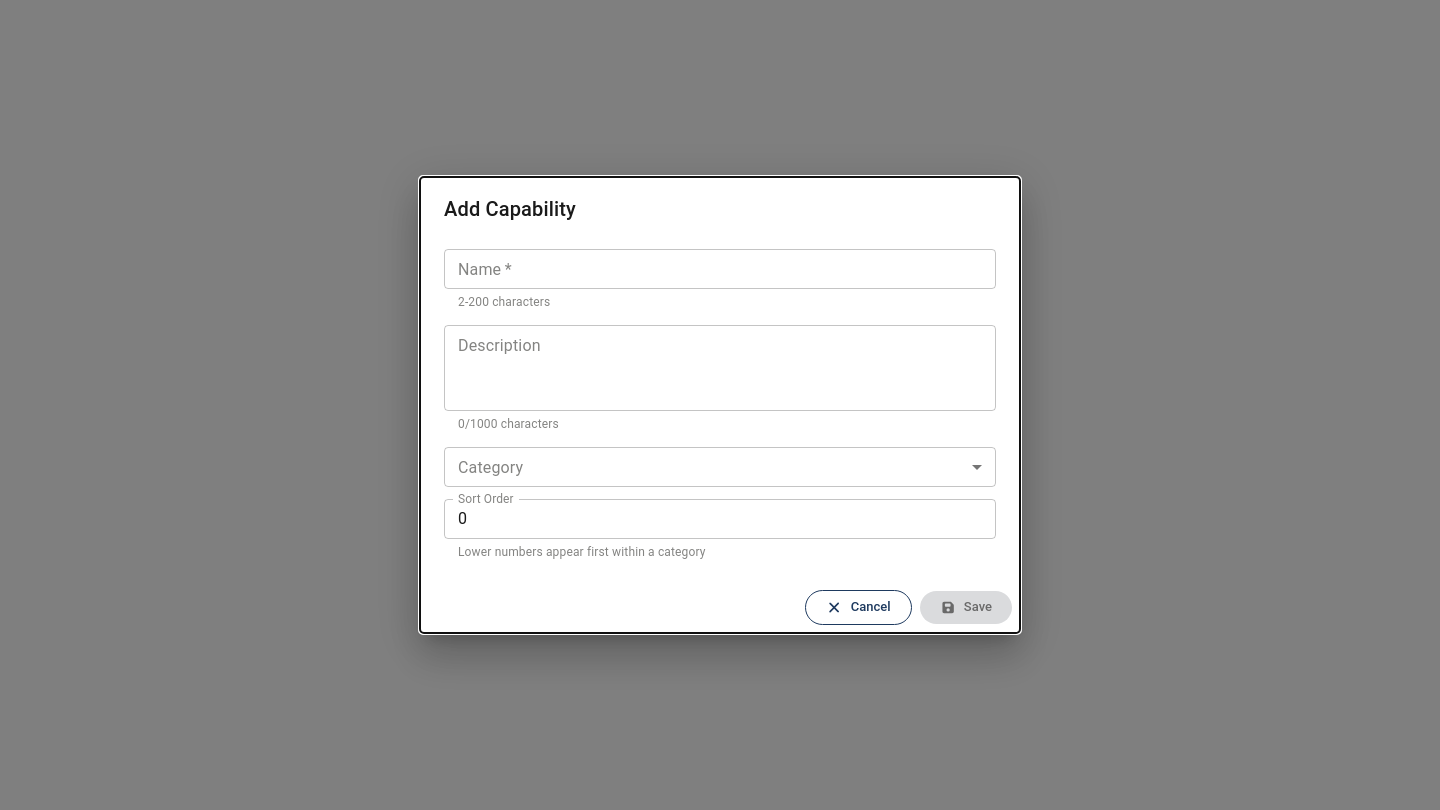
Scenario: CapabilityDialog › Error handling › displays error message on save failure
Type "Test Capability" into the field labelled "Name *" at point(720, 269), box [444,249,996,289]
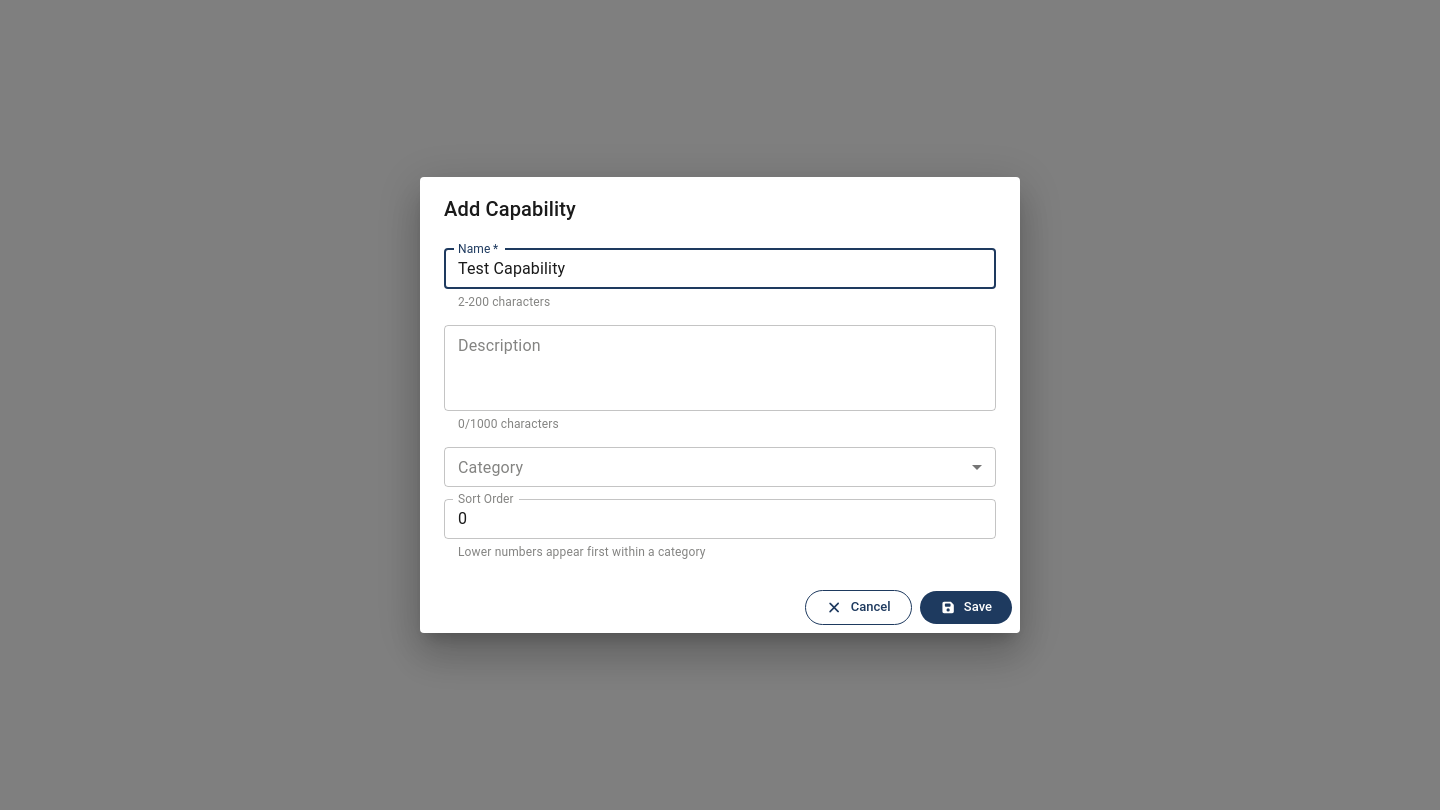
Click the button "Save" at point(966, 608), box [920,592,1012,624]
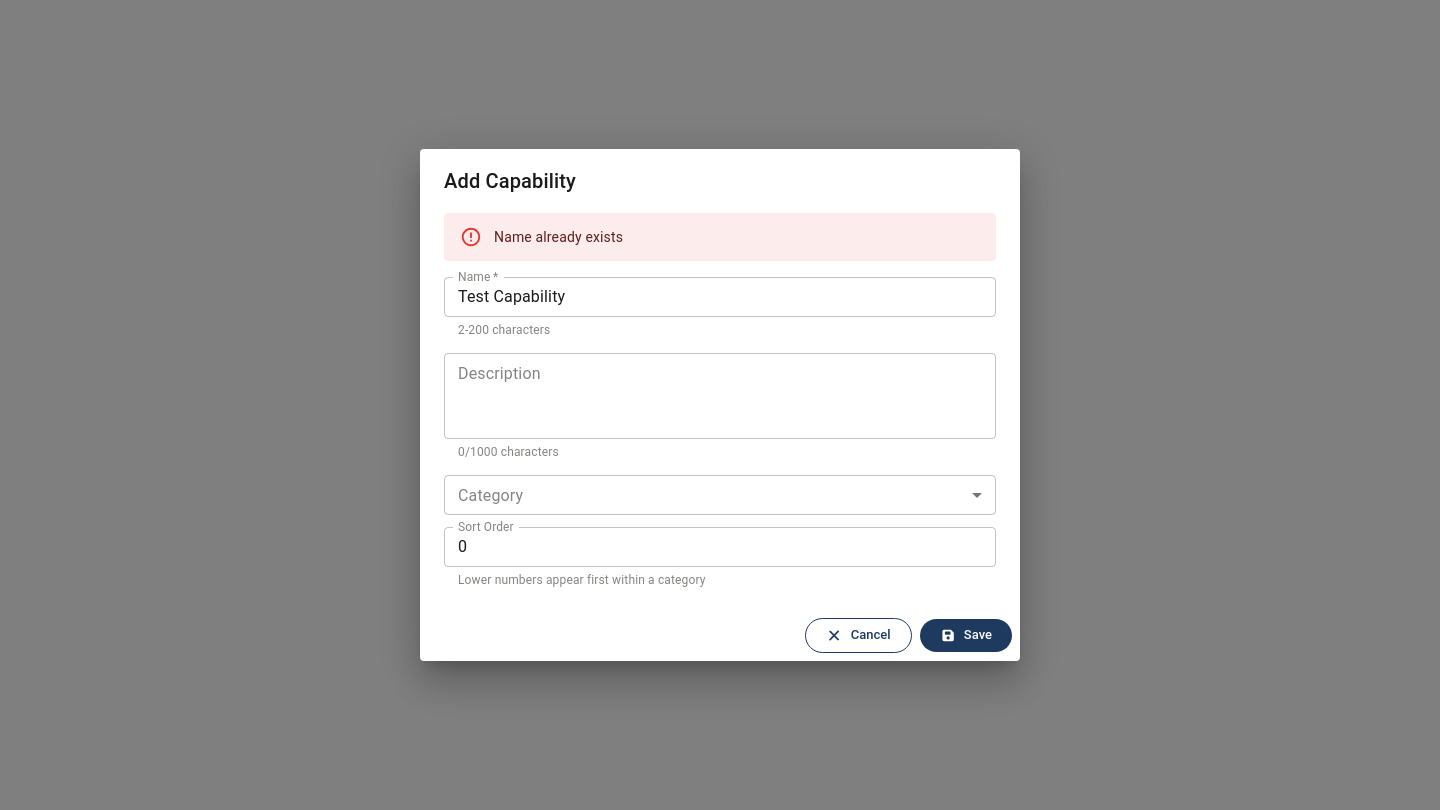
Expected: the text "Name already exists" is shown, [494,229,623,245]
